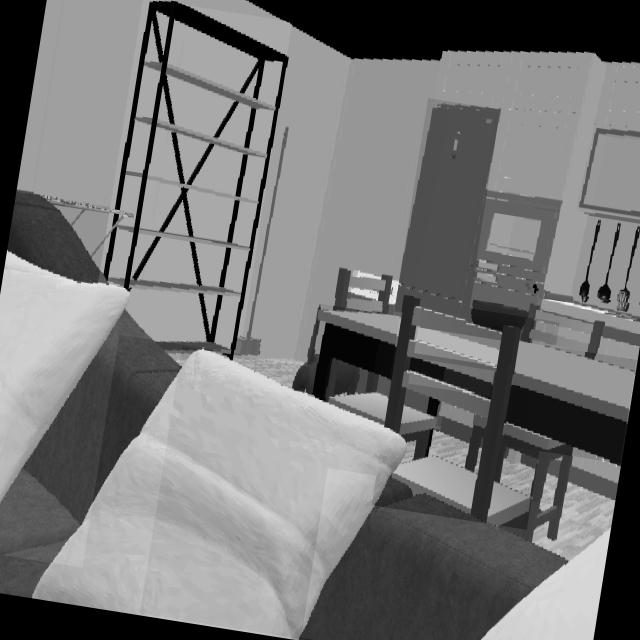cabinet: (435, 53, 640, 294)
chair: (386, 298, 531, 526)
fridge: (395, 106, 500, 316)
pillow: (35, 351, 407, 638), (0, 251, 126, 505)
shelf: (101, 1, 286, 352)
sofa: (0, 313, 179, 595), (302, 479, 565, 640), (8, 192, 104, 284)
table: (507, 342, 635, 463), (314, 313, 399, 397), (416, 328, 499, 365), (412, 360, 491, 396)
